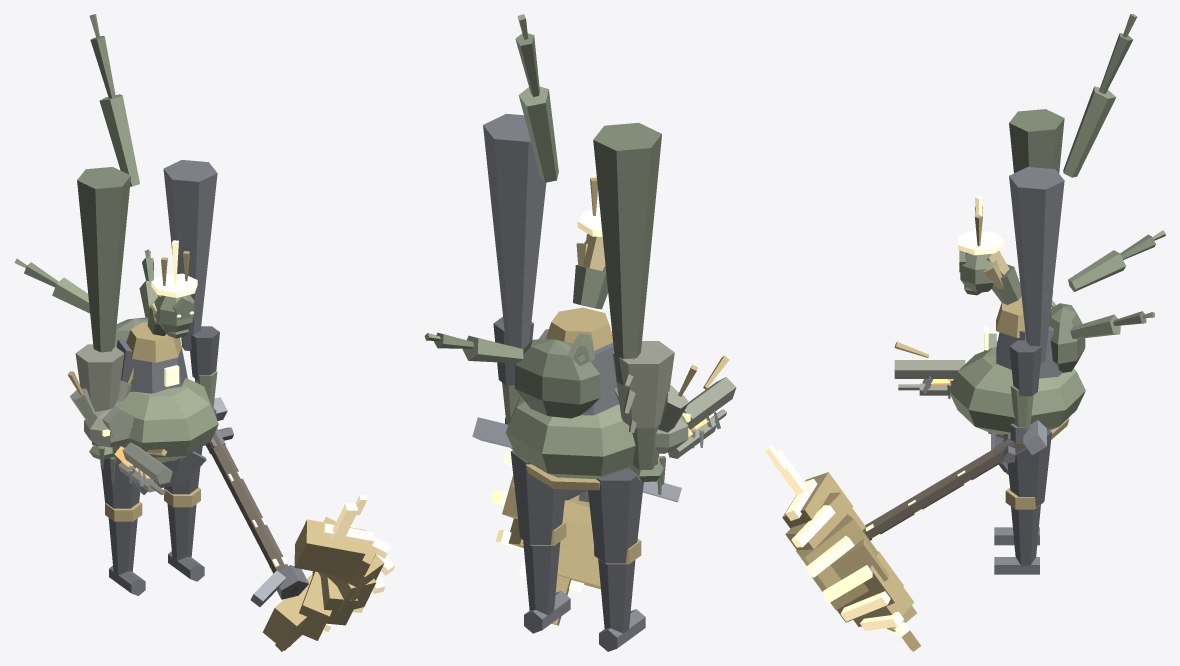
File: godrick.glb
The picture shows the model from 3 angles, left to right: view 1: azimuth 30°, elevation 25°; view 2: azimuth 150°, elevation 25°; view 3: azimuth 270°, elevation 25°; orthographic projection. The views are drawn at different scales.
Parts seen in each view (by area): view 1: pauldronL, belly, pauldronR, moon6, haft, dNeck, chest, graft2Upper, moon0, breast, legLThigh, shinLCalf (+20 smaller); view 2: pauldronL, pauldronR, belly, back, legLThigh, dNeck, legRThigh, graft2Upper, moon0, shinLCalf, shinRCalf, breast (+19 smaller); view 3: pauldronR, belly, pauldronL, haft, graft2Upper, legRThigh, back, moon3, moon4, armRUpper, shinRCalf, snout (+19 smaller).
Boxes of the visible parts, x1,y1,x2,y2 form: pauldronL: [77, 167, 130, 352]; belly: [114, 378, 218, 461]; pauldronR: [163, 160, 217, 351]; moon6: [294, 519, 365, 578]; haft: [206, 432, 298, 593]; dNeck: [75, 344, 124, 411]; chest: [117, 337, 187, 393]; graft2Upper: [99, 94, 139, 186]; moon0: [262, 575, 312, 650]; breast: [126, 322, 181, 362]; legLThigh: [101, 457, 140, 508]; shinLCalf: [108, 518, 137, 575]; pauldronL: [593, 122, 661, 384]; pauldronR: [483, 113, 546, 349]; belly: [505, 396, 635, 479]; back: [515, 338, 600, 418]; legLThigh: [588, 467, 643, 563]; dNeck: [612, 341, 674, 428]; legRThigh: [510, 449, 565, 544]; graft2Upper: [518, 86, 558, 182]; moon0: [557, 517, 600, 589]; shinLCalf: [598, 559, 635, 633]; shinRCalf: [523, 540, 560, 615]; breast: [546, 307, 613, 350]; pauldronR: [1009, 167, 1064, 362]; belly: [948, 347, 1085, 434]; pauldronL: [1009, 109, 1064, 173]; haft: [862, 439, 1026, 540]; graft2Upper: [1063, 86, 1116, 177]; legRThigh: [1004, 430, 1051, 507]; back: [1049, 303, 1085, 372]; moon3: [812, 533, 888, 609]; moon4: [796, 514, 878, 588]; armRUpper: [1009, 340, 1042, 396]; shinRCalf: [1011, 505, 1040, 565]; snout: [894, 360, 965, 378].
Size of the model in its own units: 2.46 by 6.01 by 3.67.
